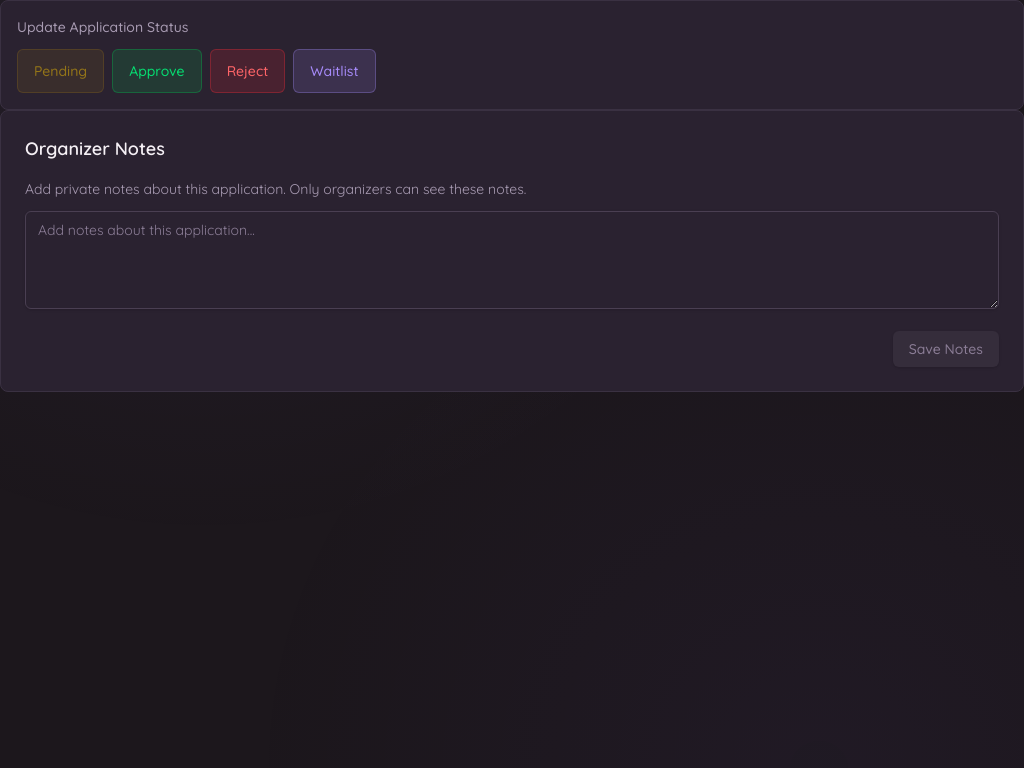
Scenario: StatusUpdateButtons — unsaved notes › warns and offers "Save notes and confirm" when notes are unsaved and the status emails
Type "Great booth photos" into the text box with placeholder "Add notes about this application...".
click(512, 260); type("Great booth photos")  # box [25,211,999,309]
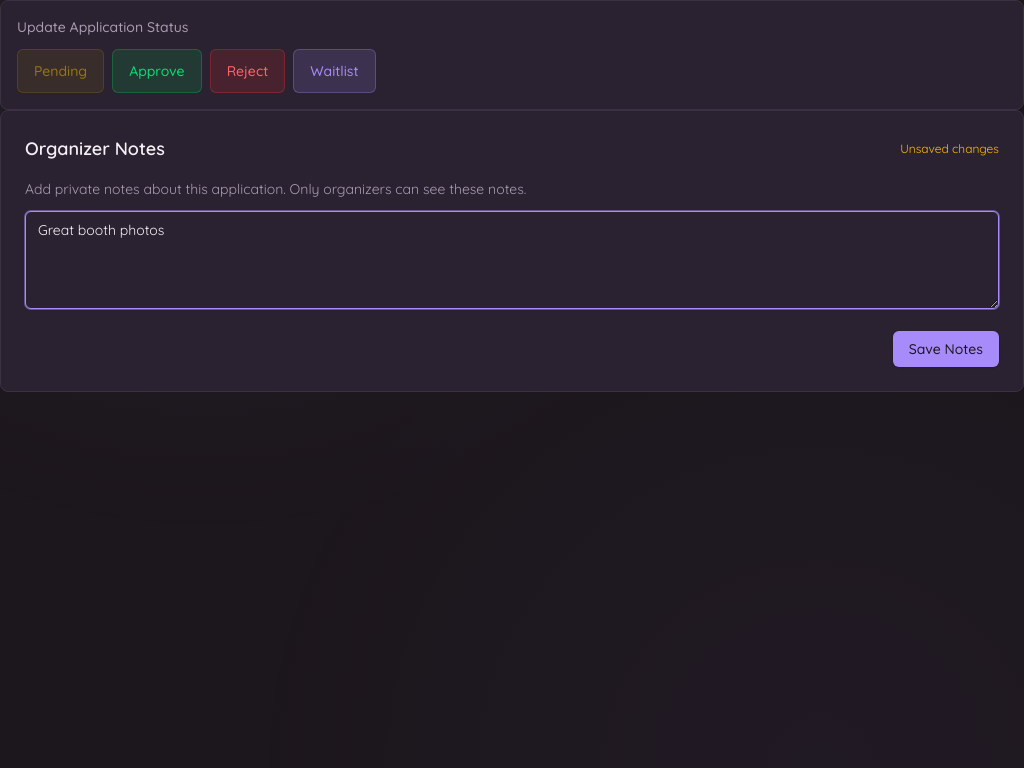
Click the button "Approve".
click(157, 71)  # box [112,49,202,93]
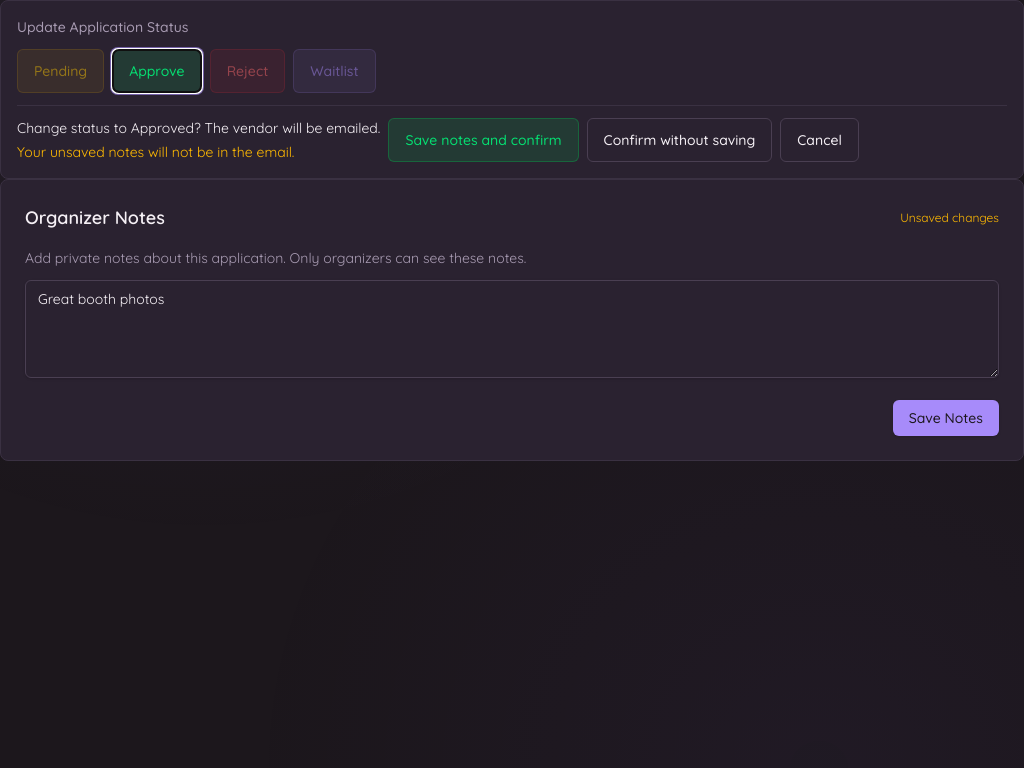
Now the text "Your unsaved notes will not be in the email." is shown, box [17,143,294,161]
Now the button "Save notes and confirm" is shown, box [388,118,579,162]
Now the button "Confirm without saving" is shown, box [587,118,772,162]
